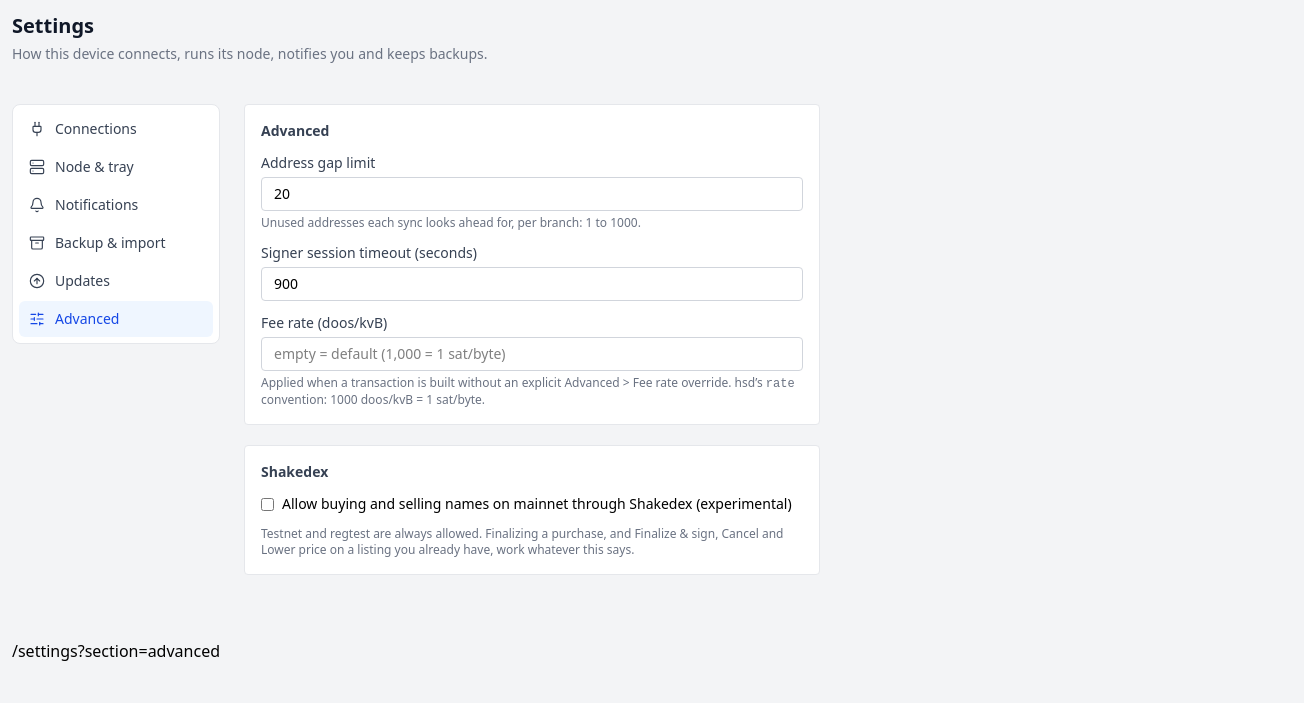
Test: Settings sections › marks Advanced for a bad fee rate and clears it once fixed
This screenshot has width=1304, height=703.
Type "x" into the field with test id "settings-fee-rate" at (532, 354), box 261,337 -> 803,371
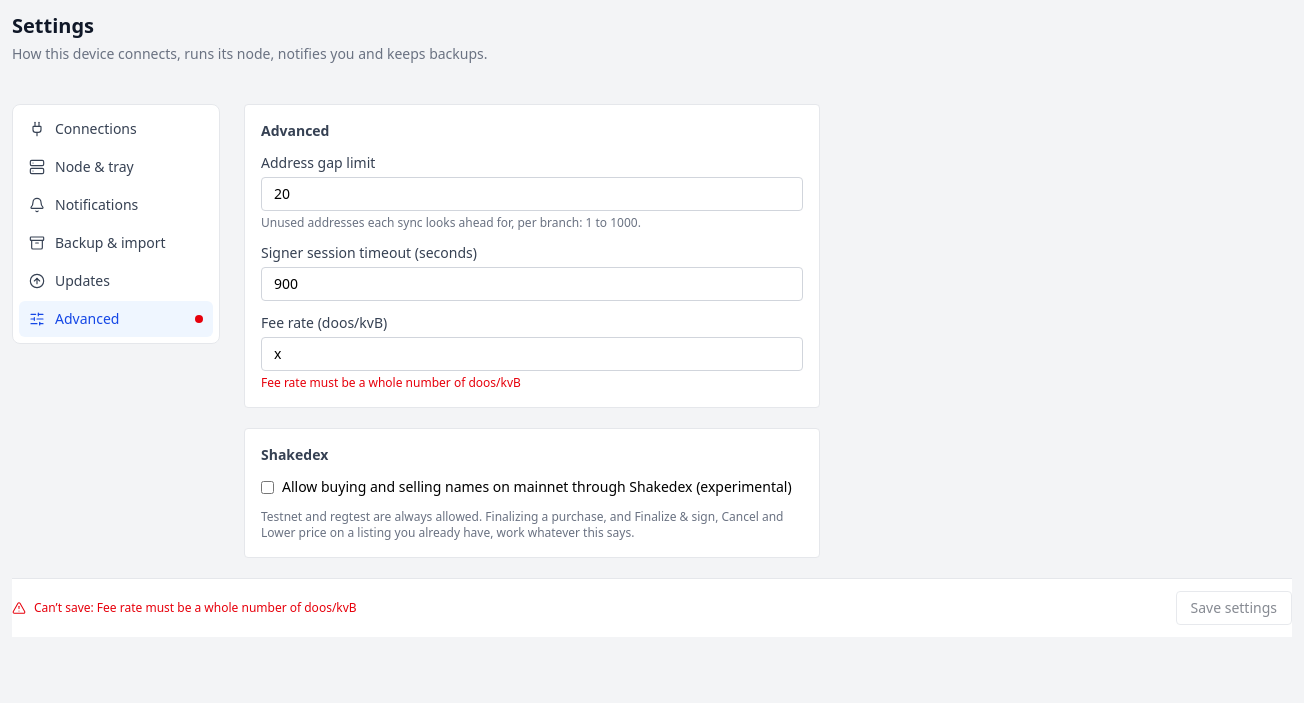
Expected: the element with test id "settings-section-error-advanced" is shown, 195,315 -> 203,323
Clear the field with test id "settings-fee-rate" at (532, 354), box 261,337 -> 803,371
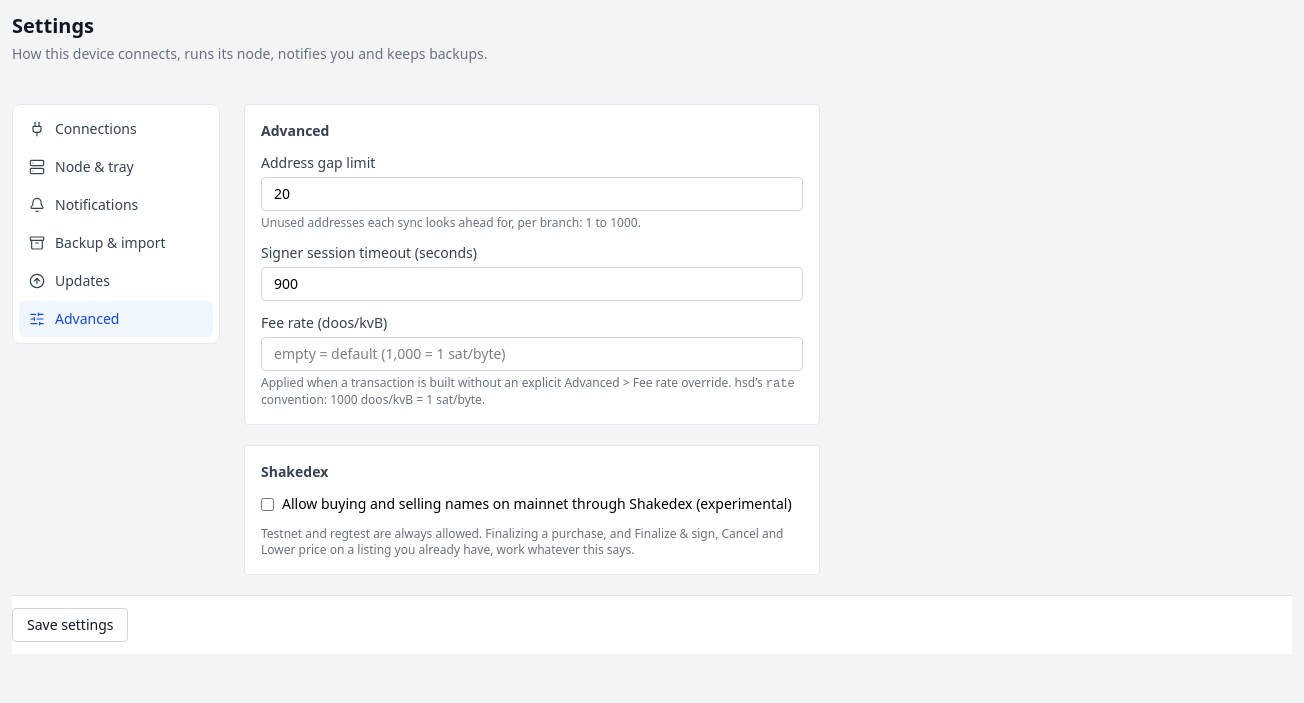
Expected: the element with test id "settings-section-error-advanced" is gone
Expected: the button with test id "settings-save" is enabled, 12,608 -> 128,642
